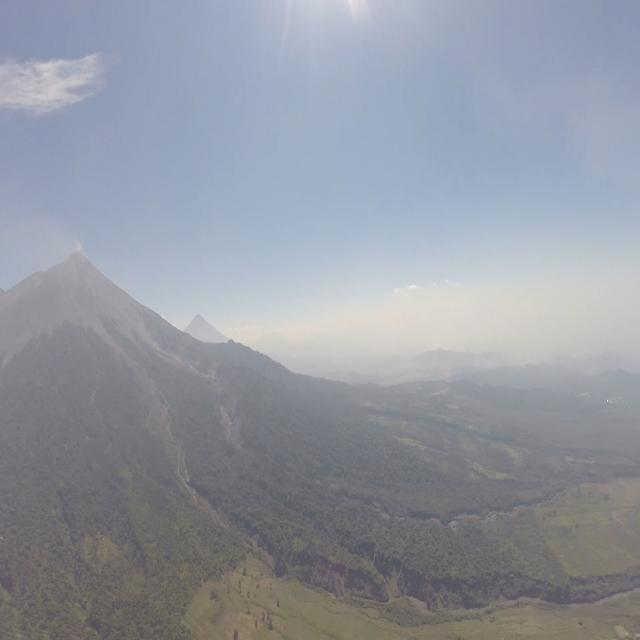Summit: (64, 251, 93, 271)
